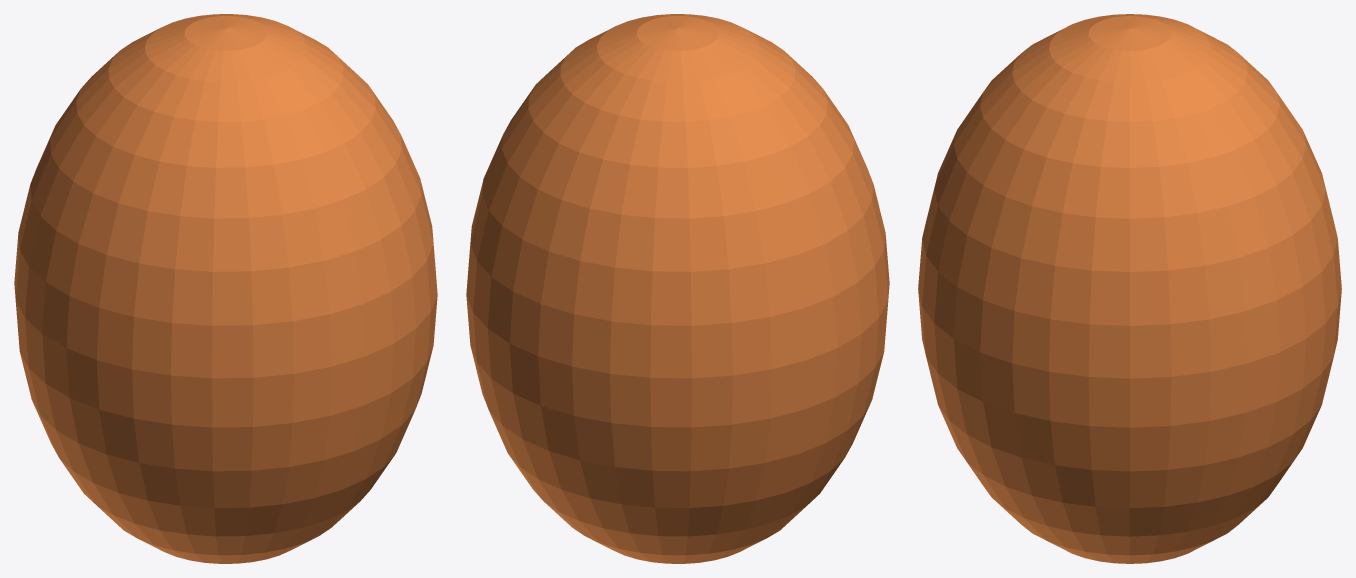
The model's file is egg (1).glb.
3 renders of one model, left to right at view 1: azimuth 30°, elevation 25°; view 2: azimuth 150°, elevation 25°; view 3: azimuth 270°, elevation 25°, orthographic.
Visible parts, largest first — view 1: Sphere_2; view 2: Sphere_2; view 3: Sphere_2.
Boxes of the visible parts, <box> form: Sphere_2: <box>14,14,437,563</box>; Sphere_2: <box>466,14,889,563</box>; Sphere_2: <box>918,14,1341,563</box>.
Bounding box in the file's own units: 2.97 × 4.02 × 2.97.
